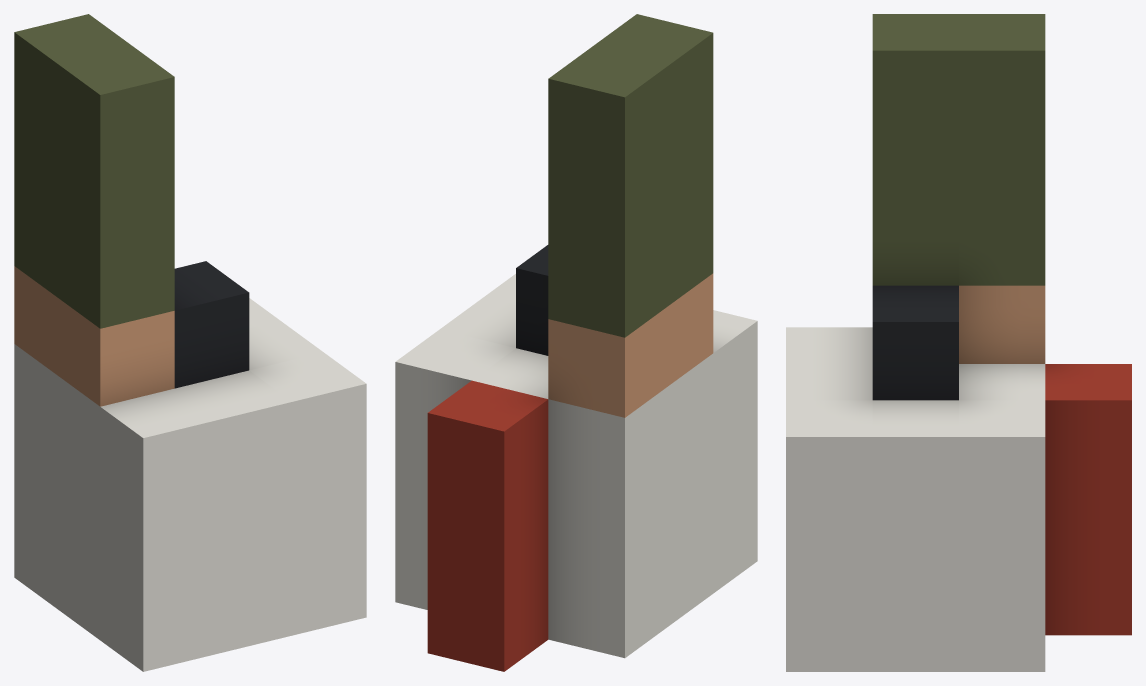
File: cm_arm_m_r.glb
3 views of the same model, side by side, from view 1: azimuth 30°, elevation 25°; view 2: azimuth 150°, elevation 25°; view 3: azimuth 270°, elevation 25° (orthographic). The views are drawn at different scales.
Visible parts, largest first — view 1: cm_arm_m_r_body; view 2: cm_arm_m_r_body; view 3: cm_arm_m_r_body.
Part boxes in pixels (x1,y1,x2,y2): cm_arm_m_r_body: (14,14,366,671); cm_arm_m_r_body: (395,14,757,671); cm_arm_m_r_body: (786,14,1131,671).
Bounding box in the file's own units: 0.1875 × 0.4375 × 0.25.
Materials: 1 (1 with a texture image).
